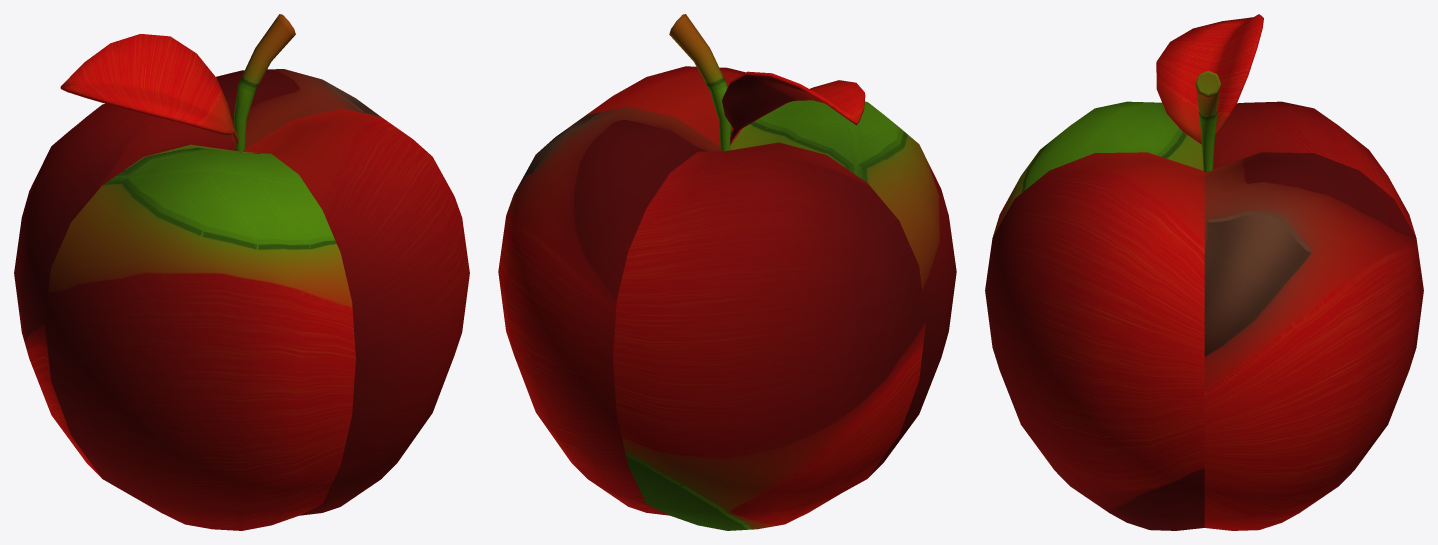
Rendered from apple.obj.
3 views of the same model, side by side, from view 1: azimuth 30°, elevation 25°; view 2: azimuth 150°, elevation 25°; view 3: azimuth 270°, elevation 25° (orthographic). The views are drawn at different scales.
Visible parts, largest first — view 1: Apple; view 2: Apple; view 3: Apple.
Part boxes in pixels (bbox=[...]): Apple: bbox=[14, 14, 469, 530]; Apple: bbox=[498, 14, 956, 530]; Apple: bbox=[985, 14, 1423, 530].
Bounding box in the file's own units: 0.7989 × 0.9112 × 0.7989.
